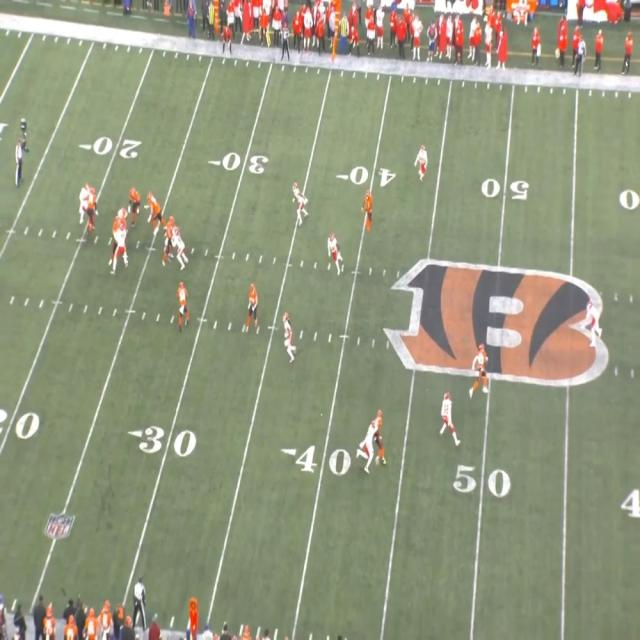db: (357, 420, 376, 473), (441, 391, 456, 439), (587, 300, 600, 344), (296, 187, 308, 225), (418, 146, 428, 182)
lb: (282, 314, 296, 361), (328, 235, 341, 272)
skill: (471, 341, 492, 399), (363, 191, 377, 231), (375, 410, 384, 462), (246, 286, 258, 320), (176, 284, 187, 321)
